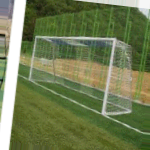goals: (28, 34, 134, 118)
